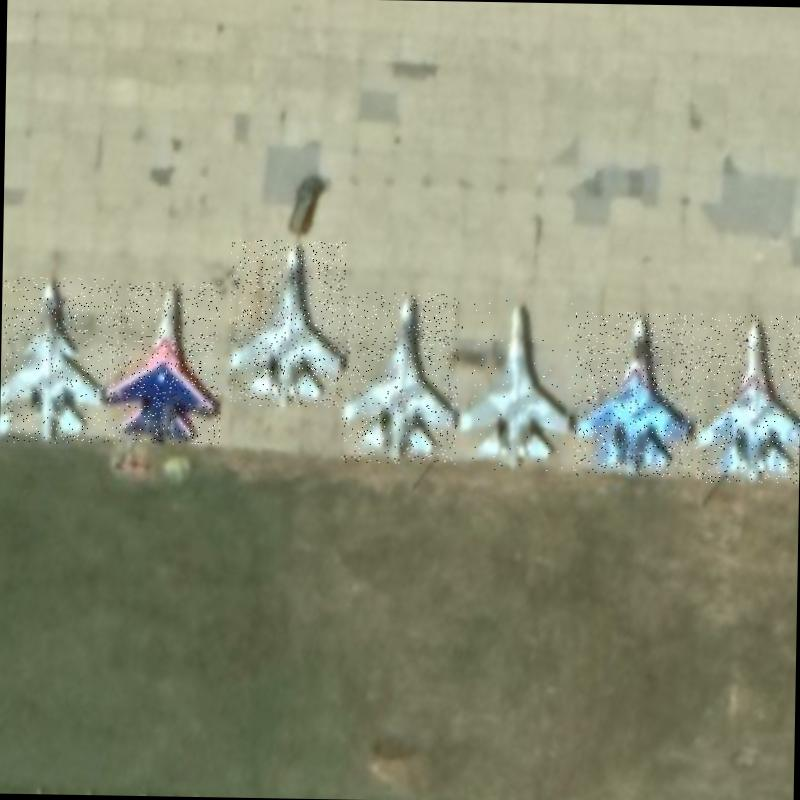A1: (456, 299, 577, 471), (340, 291, 459, 464), (98, 280, 222, 445), (572, 311, 694, 477), (228, 239, 347, 407), (692, 313, 800, 484)
A19: (1, 276, 106, 444)
